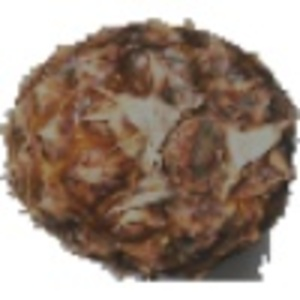abacaxi: (2, 18, 291, 275)
